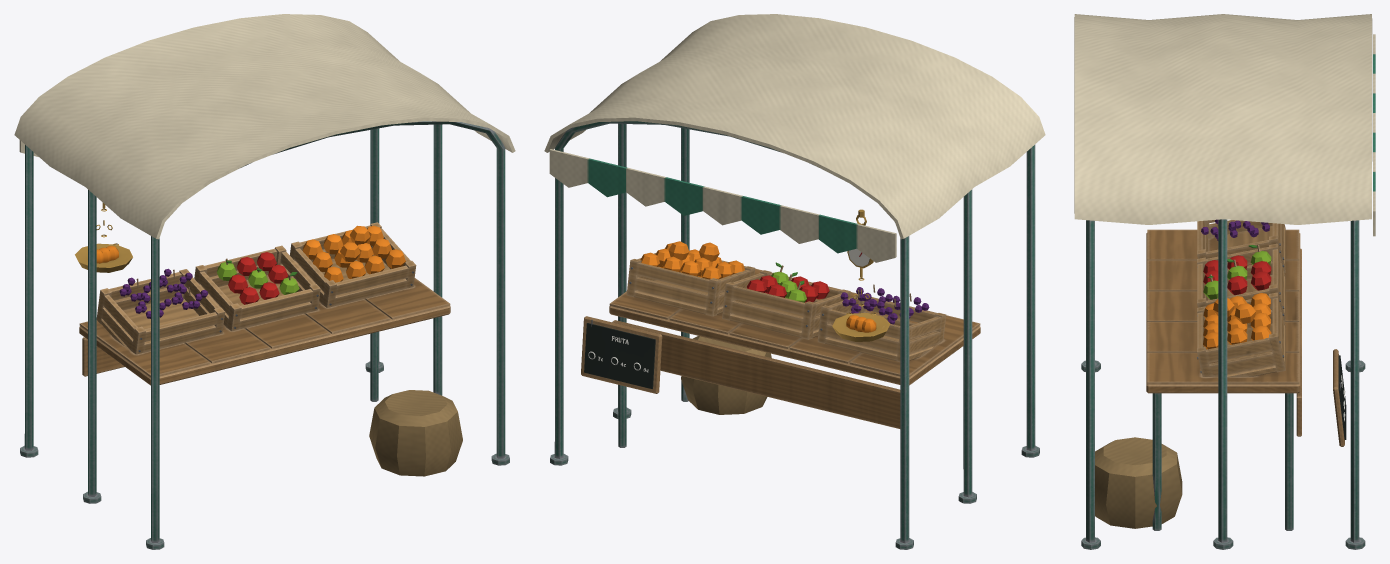
Rendered from puesto_fruta.fbx.
The picture shows the model from 3 angles, left to right: view 1: azimuth 30°, elevation 25°; view 2: azimuth 150°, elevation 25°; view 3: azimuth 270°, elevation 25°; orthographic projection. The views are drawn at different scales.
Parts seen in each view (by area): view 1: puesto_fruta; view 2: puesto_fruta; view 3: puesto_fruta.
Part boxes in pixels (left/top/right/bottom): puesto_fruta: left=14, top=14, right=515, bottom=549; puesto_fruta: left=544, top=14, right=1045, bottom=549; puesto_fruta: left=1074, top=14, right=1375, bottom=549.
Size of the model in its own units: 3.98 by 3.98 by 2.73.
Materials: 1 (1 with a texture image).
